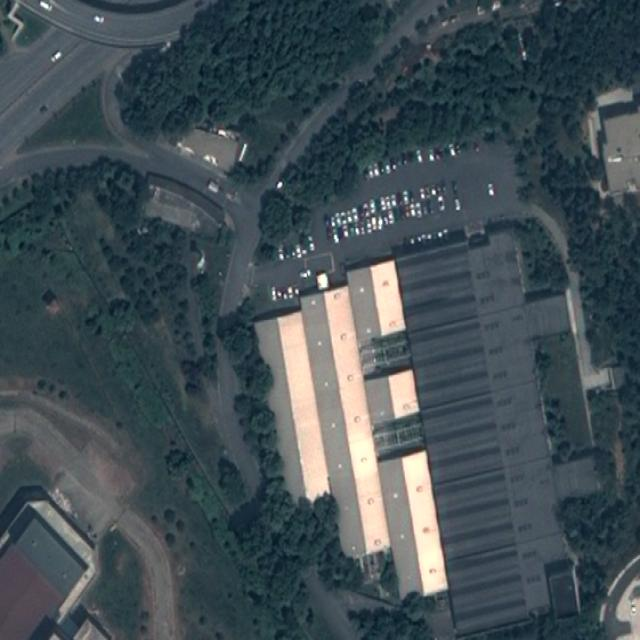Batiment: (301, 286, 390, 556), (0, 488, 95, 639), (257, 311, 330, 500), (379, 450, 448, 597), (586, 87, 640, 196), (348, 260, 405, 345), (365, 370, 419, 424), (390, 372, 416, 407)
